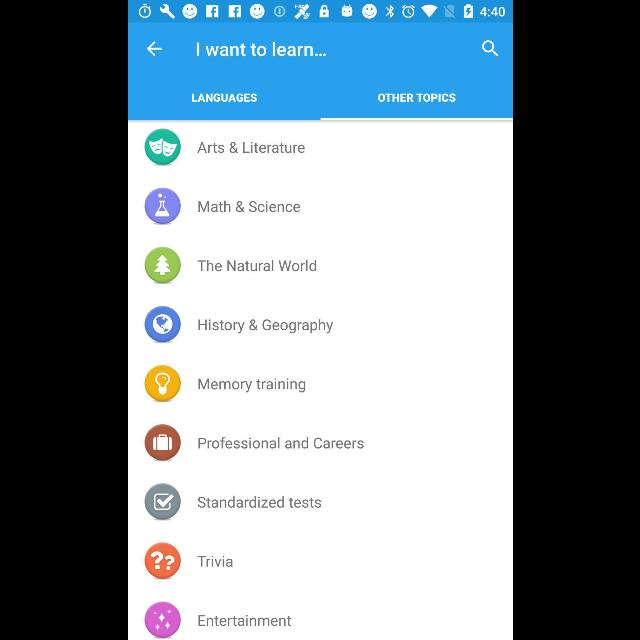icon: (144, 542, 180, 580), (144, 424, 180, 462), (144, 484, 180, 520), (480, 41, 498, 58), (146, 42, 162, 56)
image: (144, 365, 180, 403), (144, 306, 180, 344), (144, 246, 180, 284), (144, 128, 180, 166), (144, 188, 180, 225), (144, 602, 180, 638)
text: (198, 318, 332, 334), (195, 41, 325, 57), (198, 437, 362, 449), (197, 496, 321, 508), (198, 378, 304, 392), (197, 260, 316, 272), (196, 142, 304, 154), (198, 201, 300, 213), (198, 615, 290, 627), (377, 94, 455, 102), (192, 94, 256, 102), (197, 556, 233, 568)
uppertaskbar: (128, 1, 512, 23)
